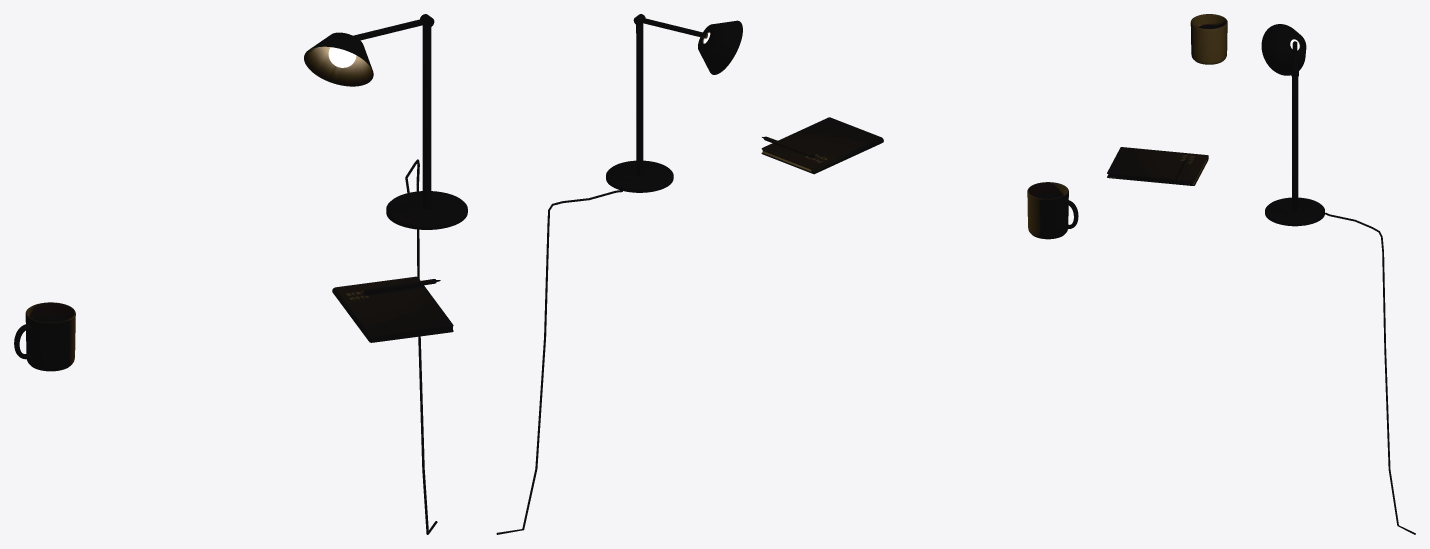
File: props-half.glb
3 views of the same model, side by side, from view 1: azimuth 30°, elevation 25°; view 2: azimuth 150°, elevation 25°; view 3: azimuth 270°, elevation 25° (orthographic). The views are drawn at different scales.
Visible parts, largest first — view 1: Prop_Lamp, Prop_Notebook, Prop_Mug; view 2: Prop_Lamp, Prop_Notebook, Prop_Mug; view 3: Prop_Lamp, Prop_Notebook, Prop_Mug.
Boxes of the visible parts, left/top/right/bottom form: Prop_Lamp: left=304, top=14, right=467, bottom=534; Prop_Notebook: left=332, top=276, right=453, bottom=342; Prop_Mug: left=14, top=302, right=75, bottom=371; Prop_Lamp: left=496, top=14, right=742, bottom=534; Prop_Notebook: left=761, top=117, right=883, bottom=174; Prop_Mug: left=1027, top=182, right=1078, bottom=239; Prop_Lamp: left=1261, top=24, right=1415, bottom=534; Prop_Notebook: left=1107, top=147, right=1208, bottom=185; Prop_Mug: left=1190, top=14, right=1227, bottom=64.
Bounding box in the file's own units: 1.11 × 1.13 × 0.7196.
Materials: 11 (10 with a texture image).
